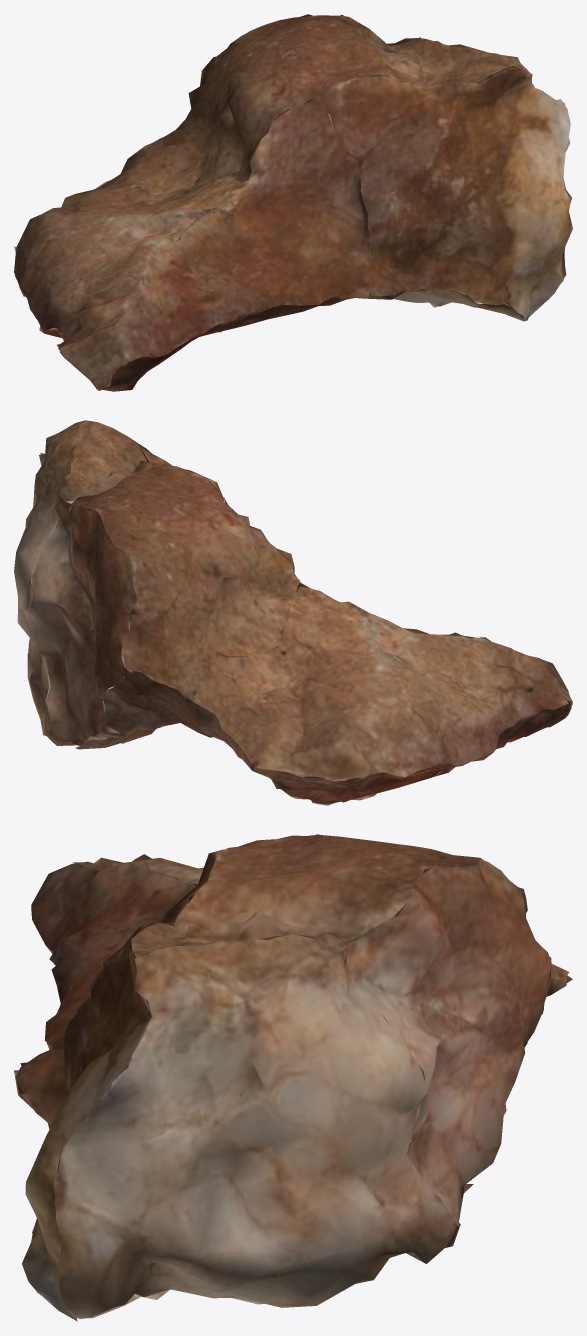
The model's file is stone_01.glb.
The picture shows the model from 3 angles, top to bottom: view 1: azimuth 30°, elevation 25°; view 2: azimuth 150°, elevation 25°; view 3: azimuth 270°, elevation 25°; orthographic projection. The views are drawn at different scales.
Parts seen in each view (by area): view 1: stone_01; view 2: stone_01; view 3: stone_01.
Boxes of the visible parts, x1,y1,x2,y2 form: stone_01: (14,14,572,391); stone_01: (14,420,572,805); stone_01: (14,834,572,1321).
Size of the model in its own units: 0.1469 by 0.0707 by 0.0899.
1 material, 1 textured.
